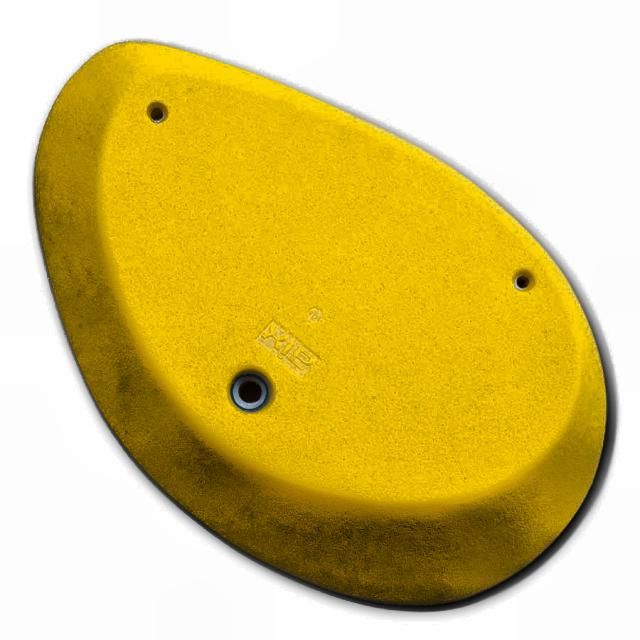Hold: (32, 37, 612, 611)
